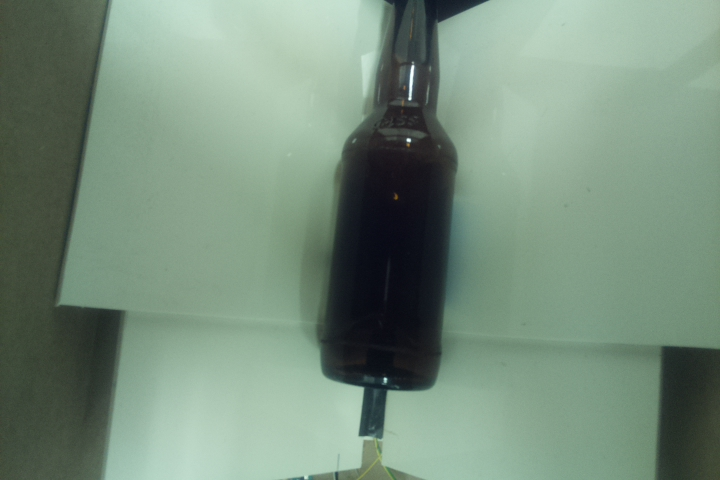makju: (316, 1, 462, 393)
